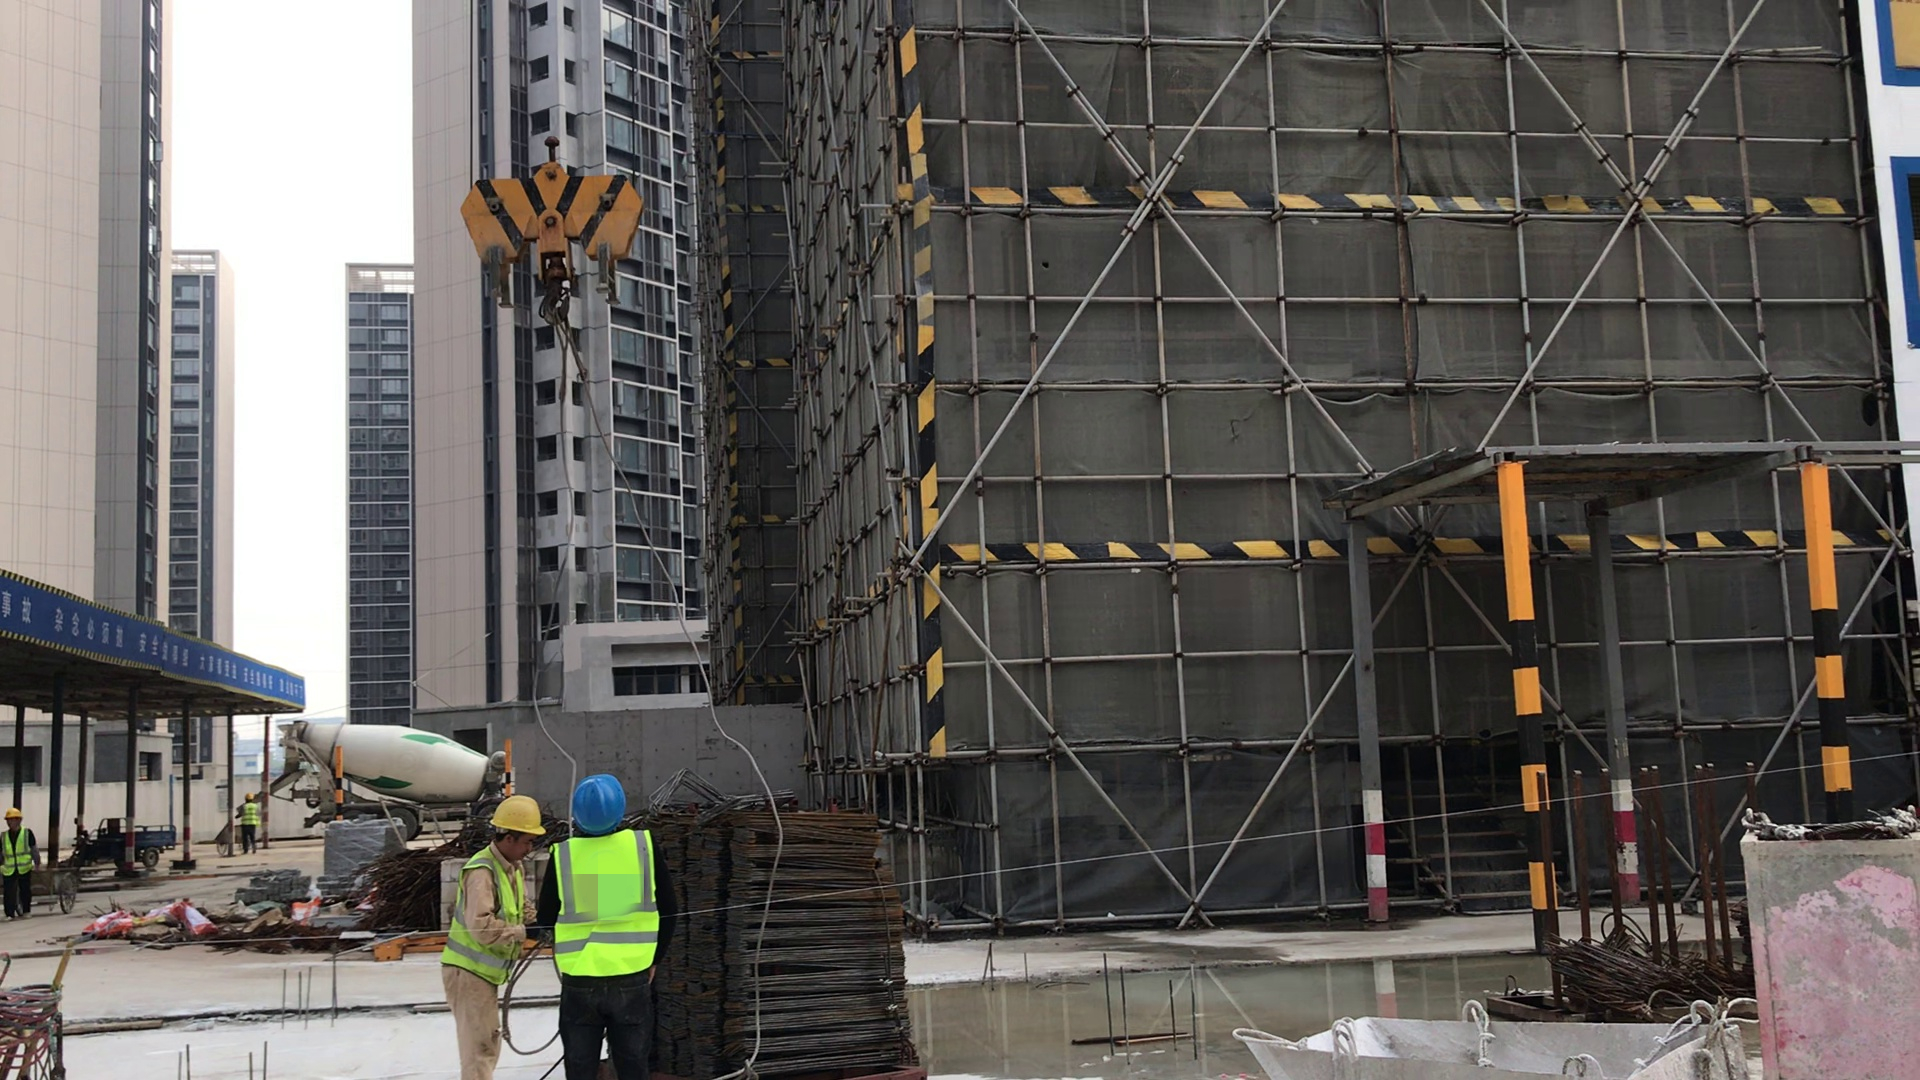handcart: (26, 868, 83, 917), (210, 821, 253, 861)
helmet: (564, 774, 624, 835), (490, 793, 544, 839), (2, 806, 29, 821), (244, 792, 255, 803)
hook: (460, 137, 671, 311)
person: (535, 768, 682, 1080), (432, 793, 561, 1080), (2, 802, 48, 925), (235, 790, 262, 855)
slogan: (5, 571, 311, 707)
vest: (548, 841, 656, 975), (442, 850, 527, 988), (2, 826, 30, 876), (242, 805, 258, 825)
